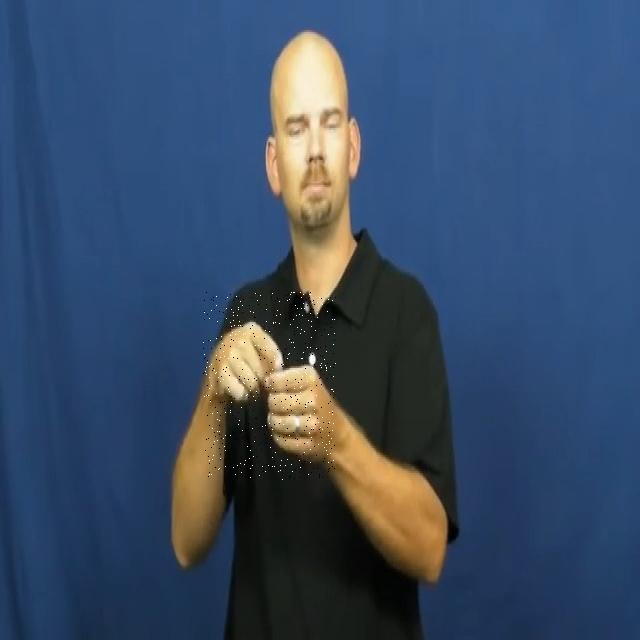soda: (203, 292, 336, 480)
